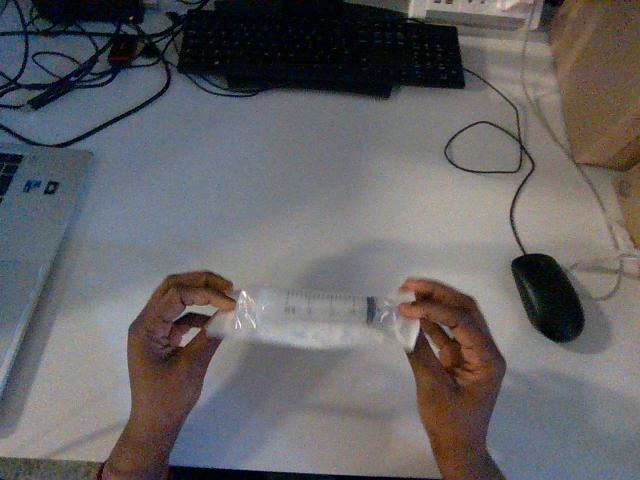syringe: (206, 287, 419, 350)
